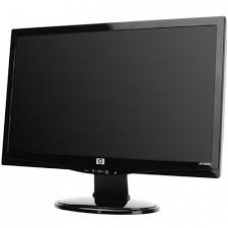hp-monitor-19ka: (1, 14, 227, 214)
